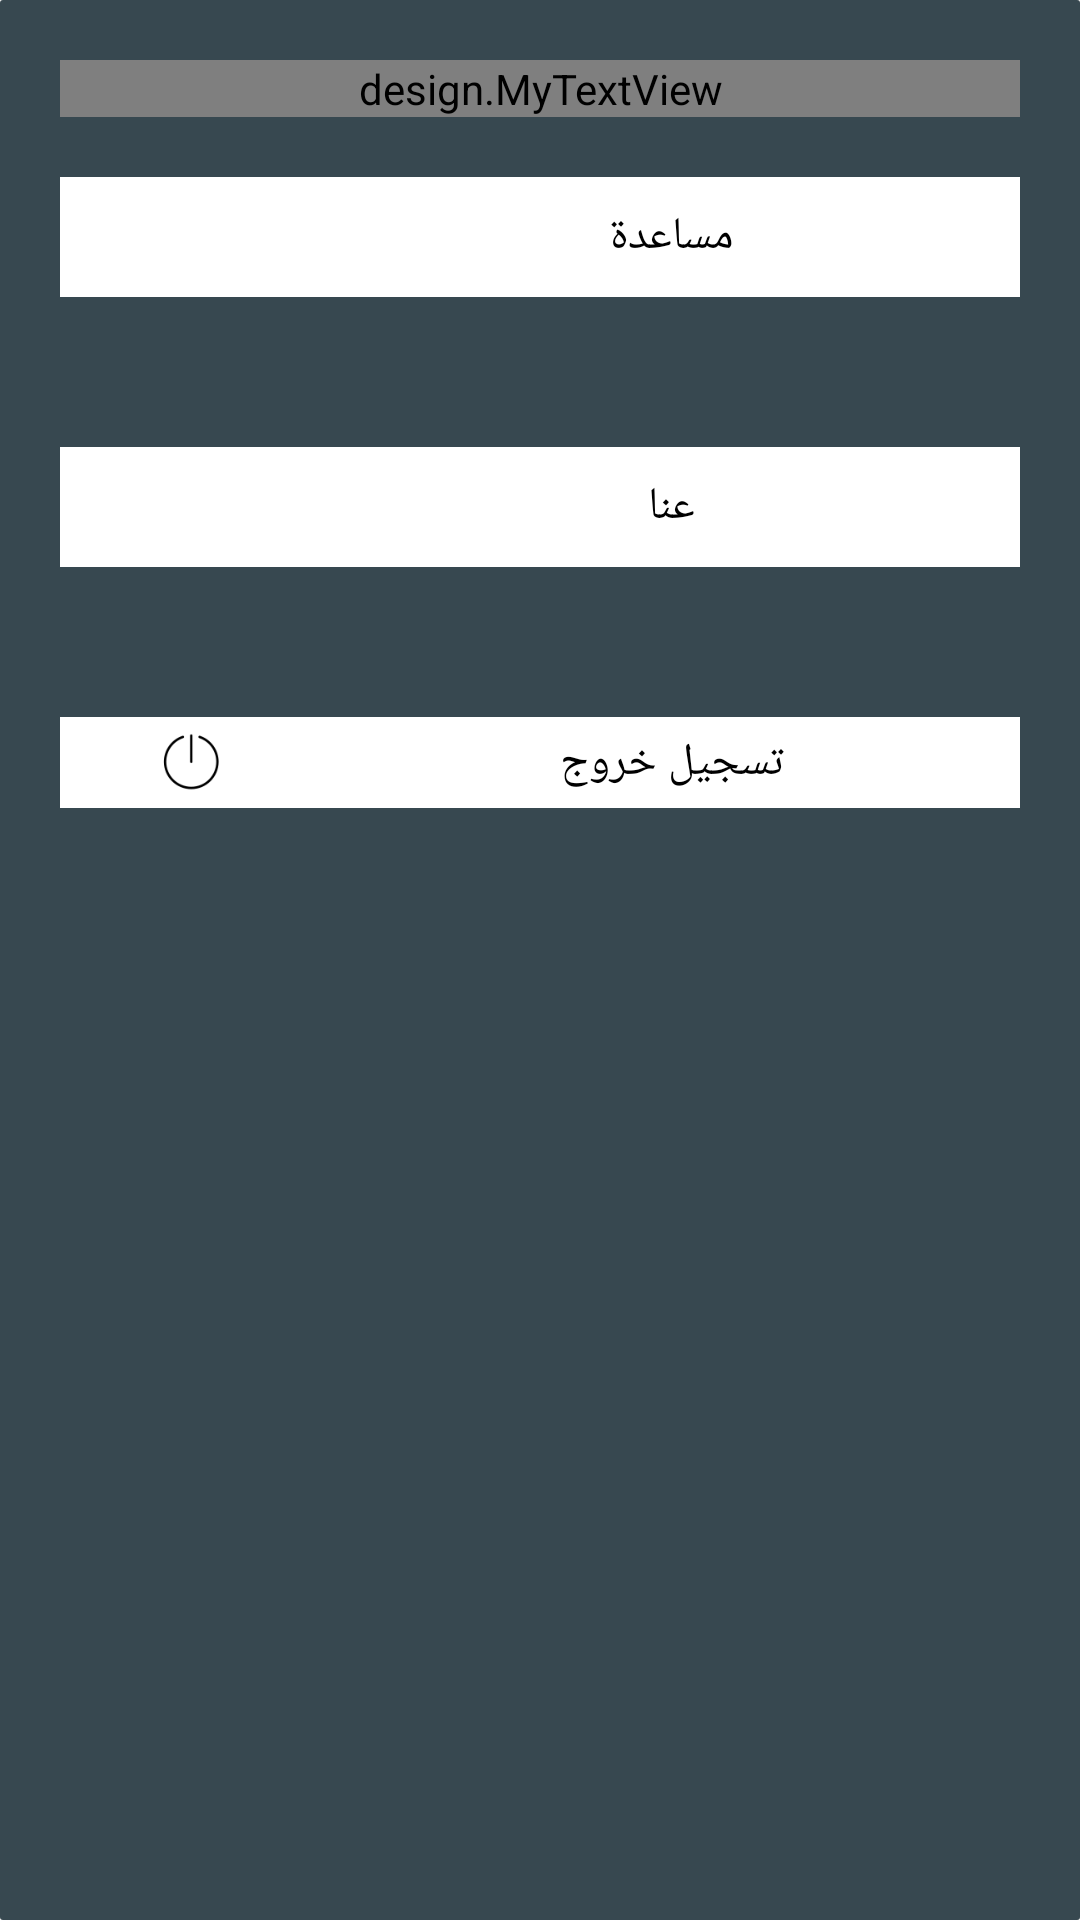

Screen size 1080x1920. Icon name, then its box in pixels as bbox=[x1, y1, x2, y2]:
shutdown: bbox=[163, 734, 219, 790]
